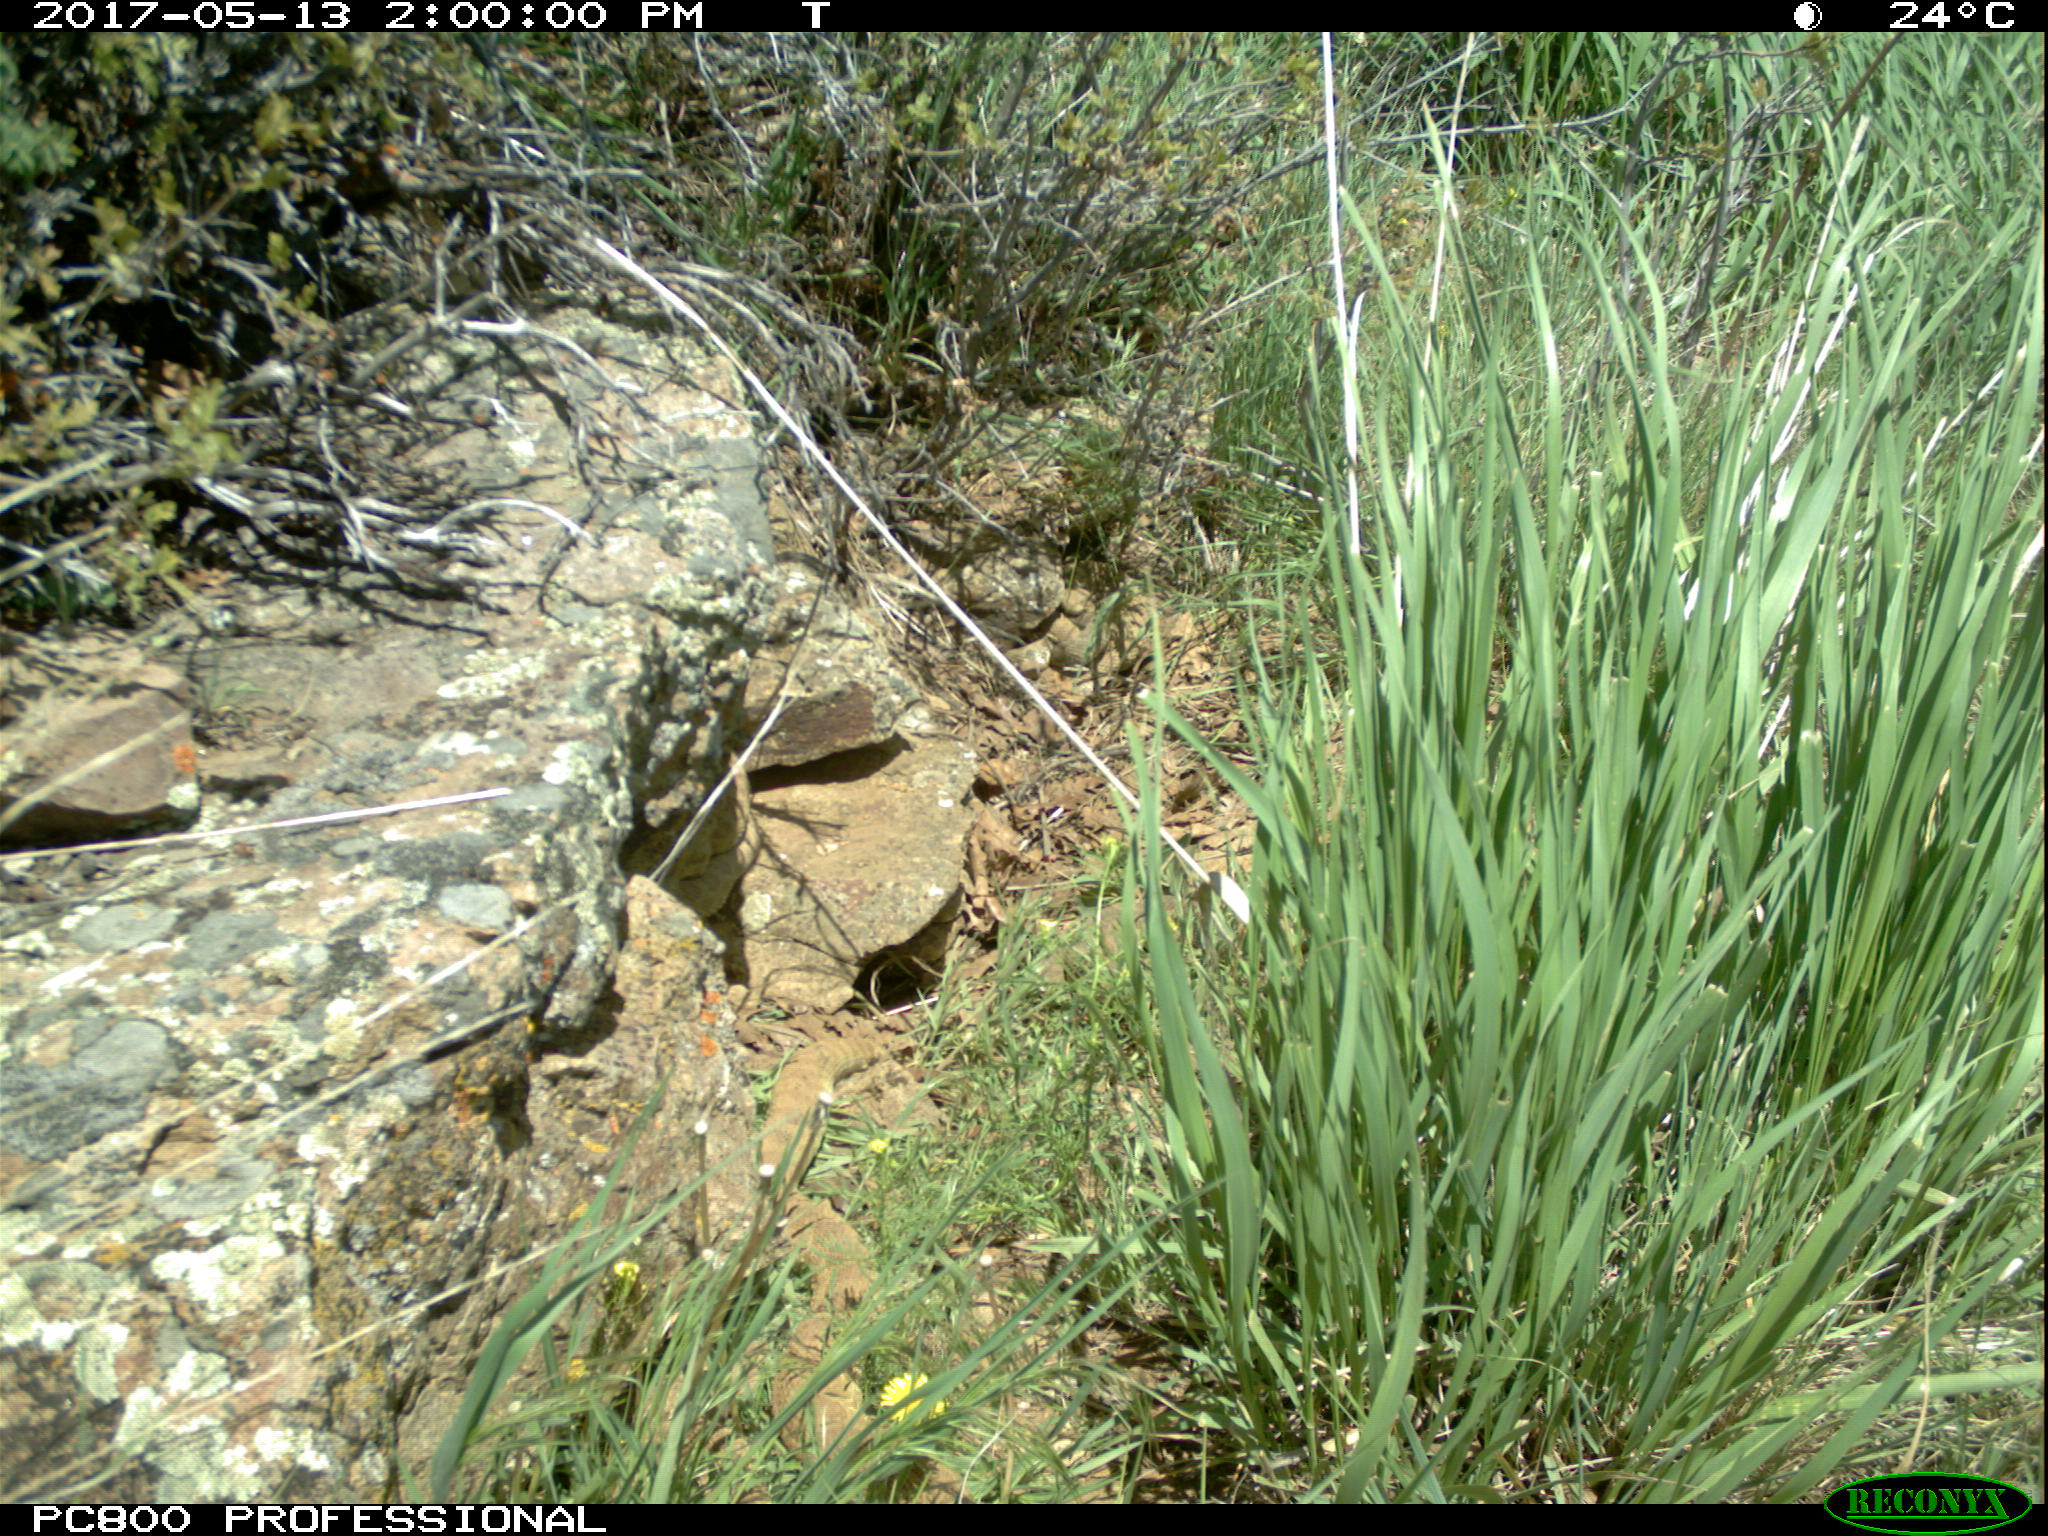snake: (760, 1020, 897, 1480), (1029, 587, 1205, 678)
